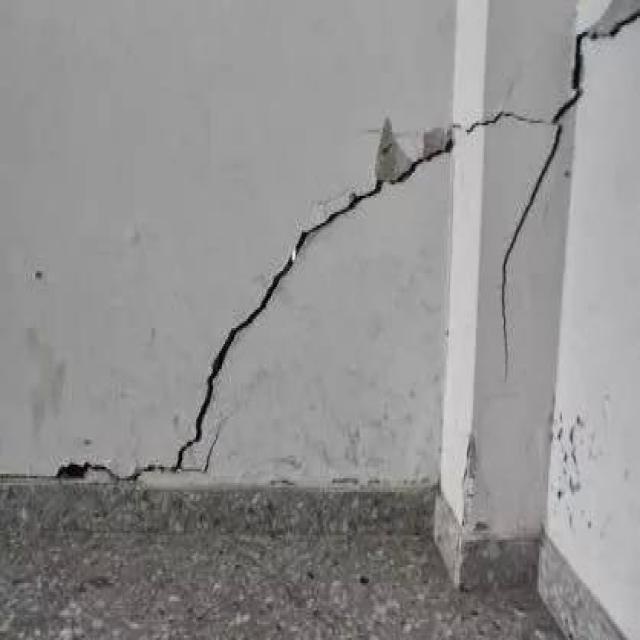crack: (46, 106, 565, 488), (550, 3, 638, 119)
